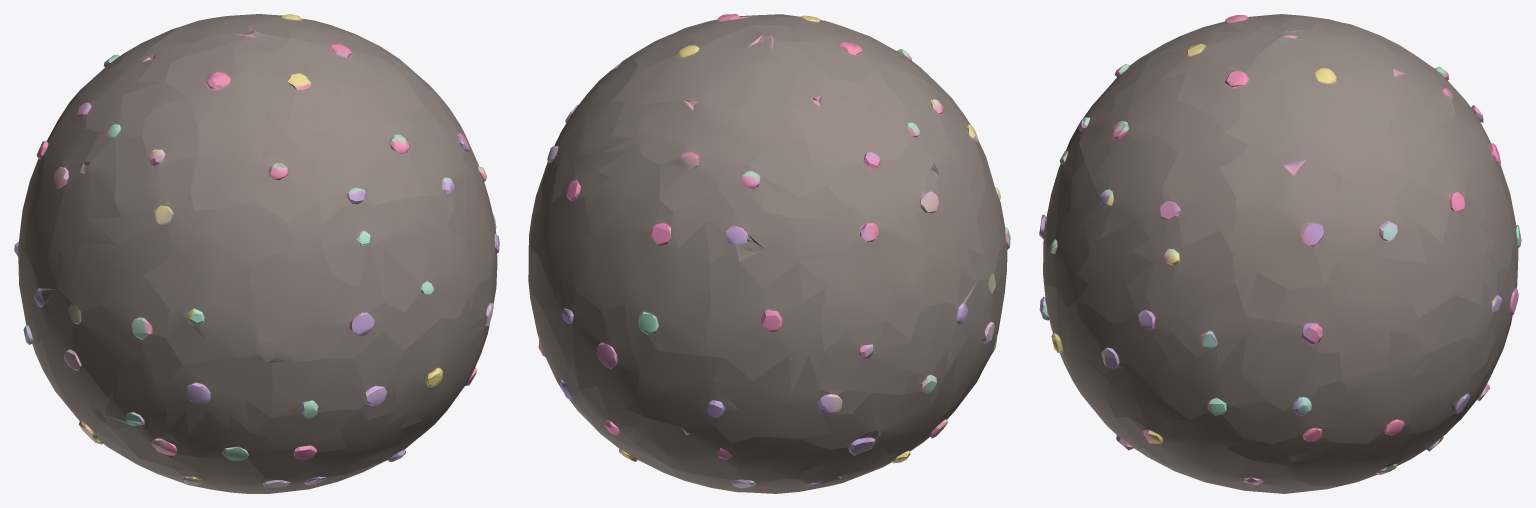
The model's file is boulder.glb.
The picture shows the model from 3 angles, left to right: view 1: azimuth 30°, elevation 25°; view 2: azimuth 150°, elevation 25°; view 3: azimuth 270°, elevation 25°; orthographic projection.
Bounding box in the file's own units: 1.9 × 1.88 × 1.9.
1 material, 1 textured.
